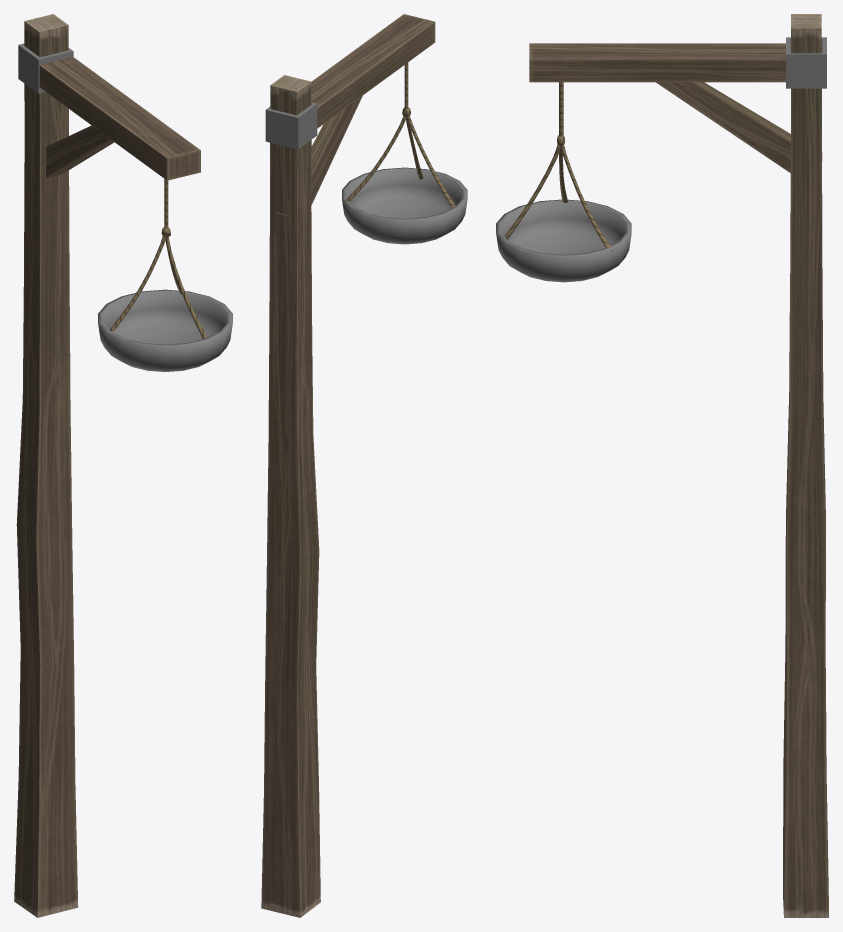
File: SM_streetlight.fbx
The picture shows the model from 3 angles, left to right: view 1: azimuth 30°, elevation 25°; view 2: azimuth 150°, elevation 25°; view 3: azimuth 270°, elevation 25°; orthographic projection. The views are drawn at different scales.
Parts seen in each view (by area): view 1: Object32612; view 2: Object32612; view 3: Object32612.
Part boxes in pixels (left/top/right/bottom): Object32612: left=14, top=14, right=232, bottom=917; Object32612: left=261, top=14, right=467, bottom=917; Object32612: left=496, top=14, right=828, bottom=917.
Bounding box in the file's own units: 24.97 × 177 × 60.36.
